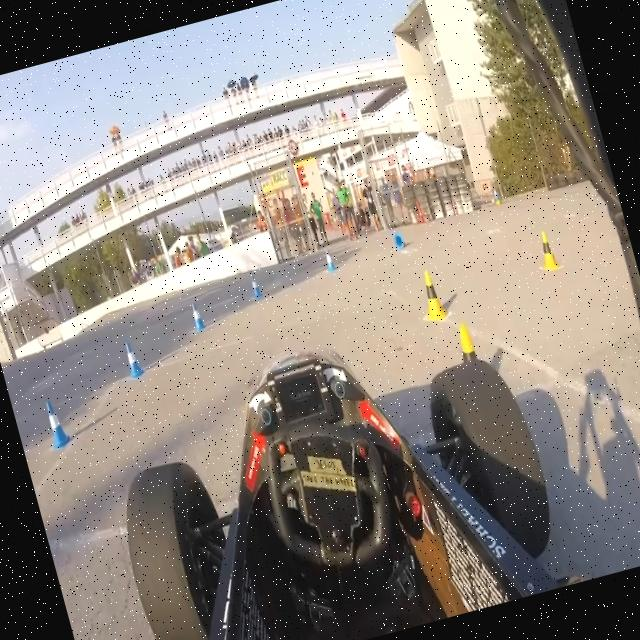blue_cone: (26, 388, 78, 461), (114, 325, 150, 383), (182, 298, 210, 340), (318, 238, 342, 278), (244, 269, 266, 299)
yellow_cone: (408, 256, 456, 334), (453, 323, 492, 385), (528, 219, 566, 280)
